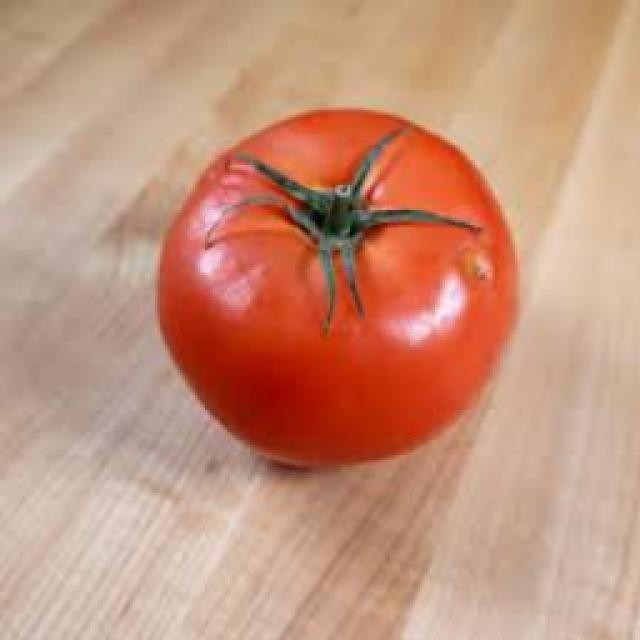tomato: (155, 109, 521, 472)
